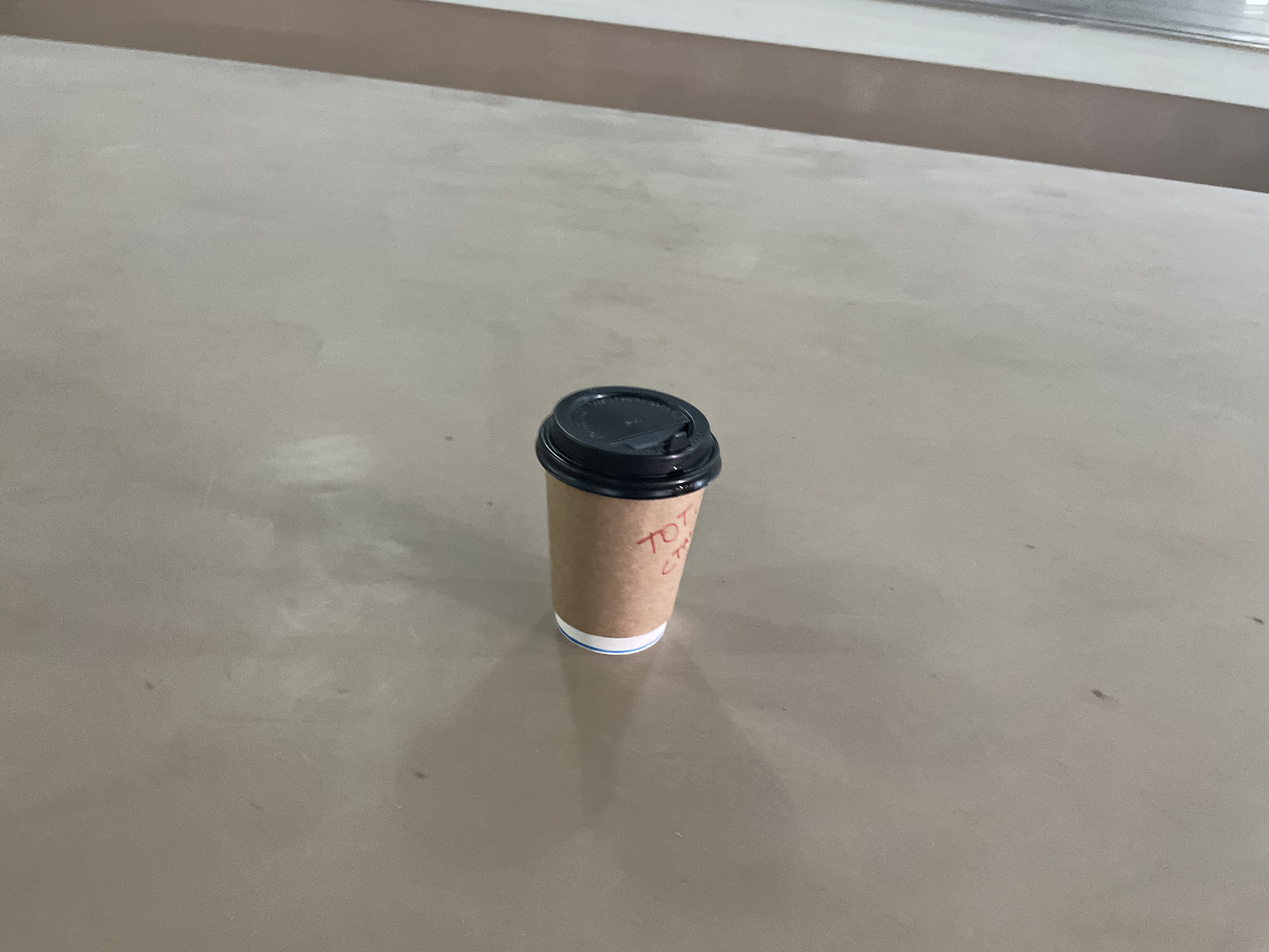cup: (534, 386, 722, 656)
